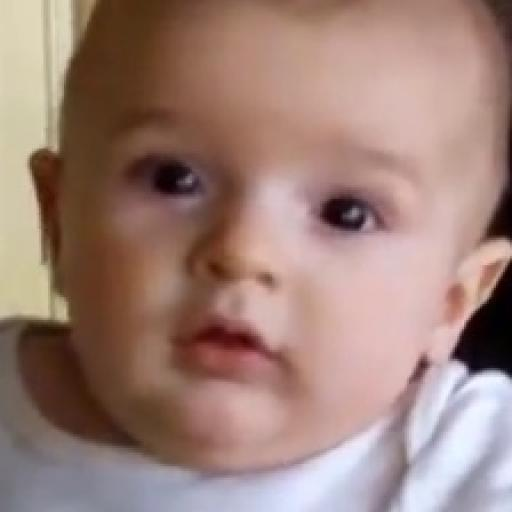Autism: (49, 19, 512, 458)
